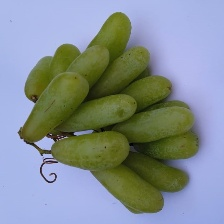grapes: (40, 37, 200, 191)
